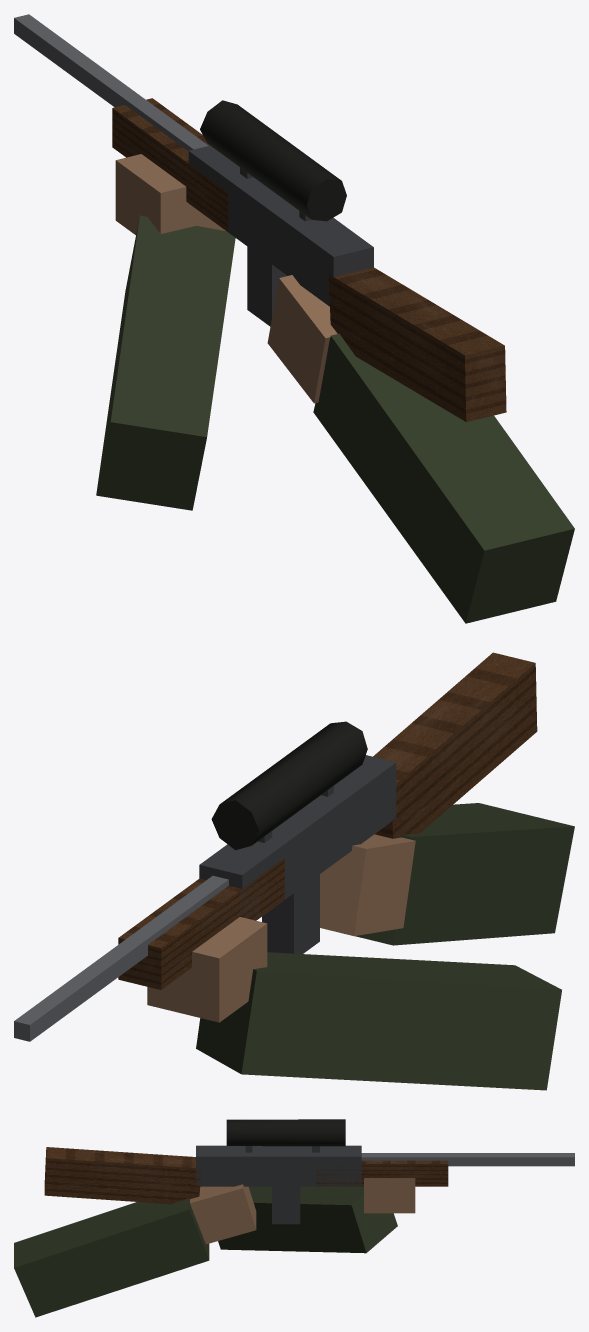
File: dmr.glb
The picture shows the model from 3 angles, top to bottom: view 1: azimuth 30°, elevation 25°; view 2: azimuth 150°, elevation 25°; view 3: azimuth 270°, elevation 25°; orthographic projection. The views are drawn at different scales.
Visible parts, largest first — view 1: dmr_5, dmr_2, dmr_0, dmr_4, dmr_3, dmr_1; view 2: dmr_5, dmr_2, dmr_0, dmr_4, dmr_3, dmr_1; view 3: dmr_5, dmr_2, dmr_0, dmr_4, dmr_3, dmr_1.
Boxes of the visible parts, box(x1,y1,x2,y2) form: dmr_5: box(96, 215, 574, 623); dmr_2: box(112, 98, 506, 422); dmr_0: box(188, 145, 373, 326); dmr_4: box(115, 154, 337, 403); dmr_3: box(200, 100, 346, 221); dmr_1: box(14, 14, 208, 151); dmr_5: box(196, 803, 574, 1090); dmr_2: box(118, 652, 537, 989); dmr_0: box(199, 755, 396, 953); dmr_4: box(147, 834, 415, 1022); dmr_3: box(211, 721, 367, 850); dmr_1: box(14, 875, 228, 1041); dmr_5: box(14, 1186, 397, 1317); dmr_2: box(44, 1147, 448, 1204); dmr_0: box(196, 1145, 361, 1224); dmr_4: box(190, 1178, 415, 1244); dmr_3: box(226, 1119, 345, 1146); dmr_1: box(361, 1153, 574, 1166).
Size of the model in its own units: 0.4821 by 0.5389 by 1.51.
Materials: 6 (1 with a texture image).
